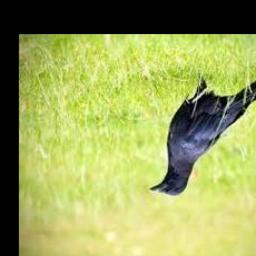Crow: (149, 68, 256, 196)
